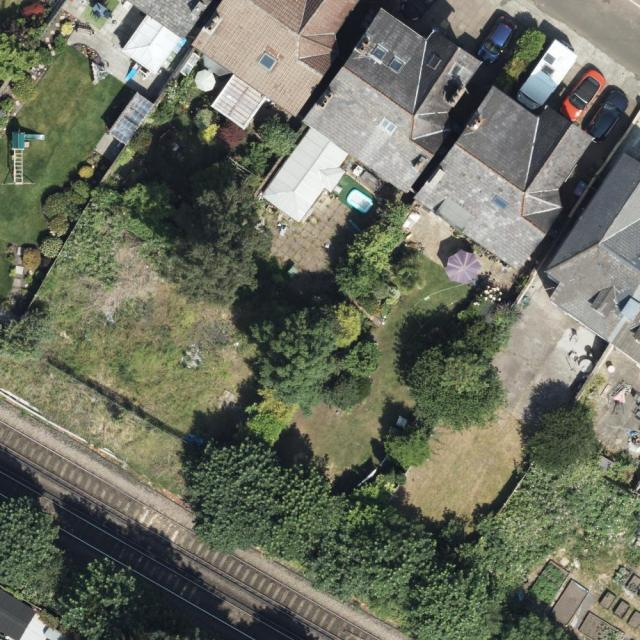roof: (260, 9, 486, 224), (417, 82, 596, 276), (192, 0, 361, 131), (548, 155, 640, 367), (120, 1, 213, 79)
skylight: (421, 49, 445, 75), (368, 41, 390, 65), (257, 50, 280, 72), (487, 191, 509, 214), (387, 56, 408, 76), (379, 115, 399, 133), (445, 62, 463, 79)
